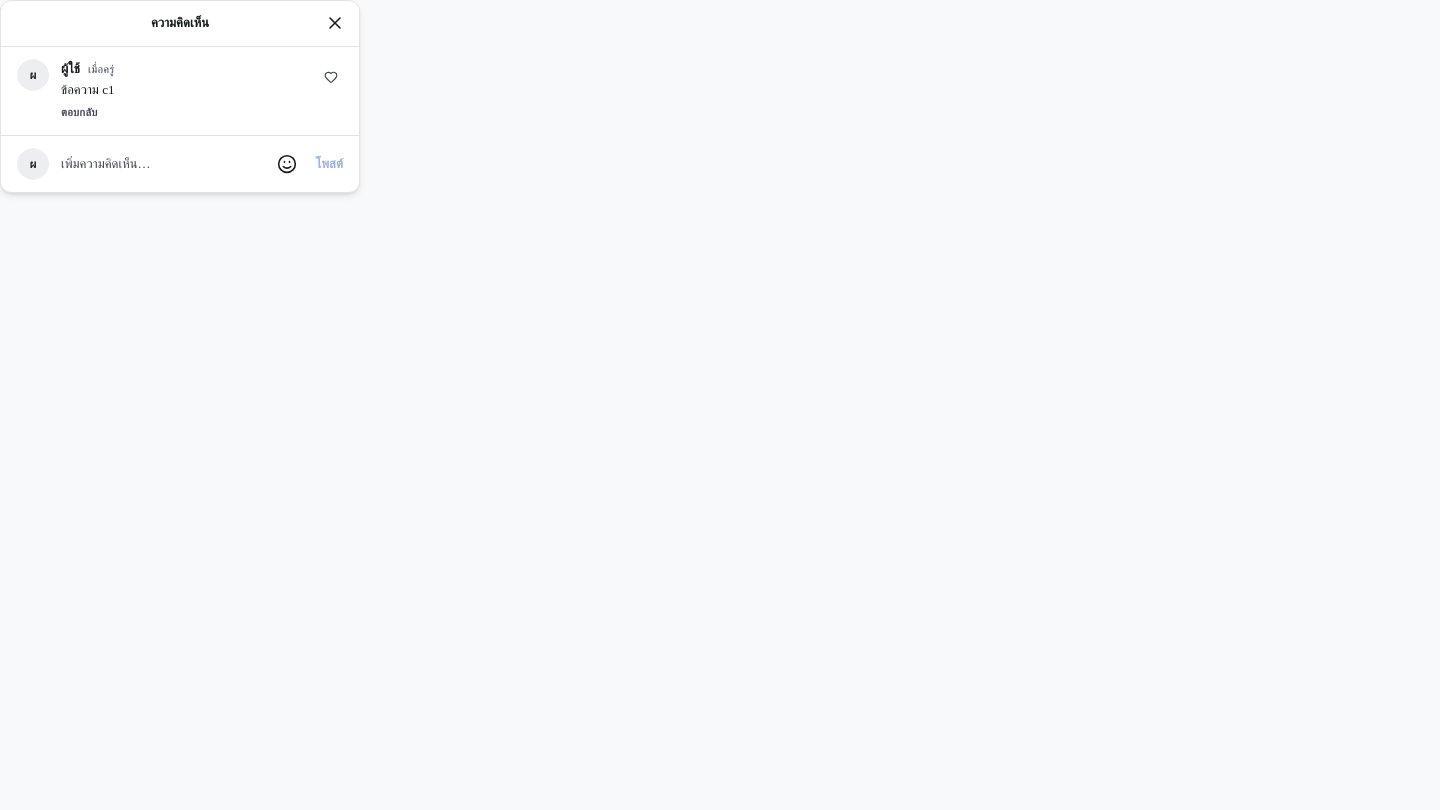
แผงความคิดเห็น › **หัวใจแดงทันทีที่กด** ก่อนหลังบ้านตอบ แล้วใช้ตัวเลขจริงจากหลังบ้าน
Step 1. Click the button named "ถูกใจความคิดเห็น" → (331, 77), box [319,65,343,89]
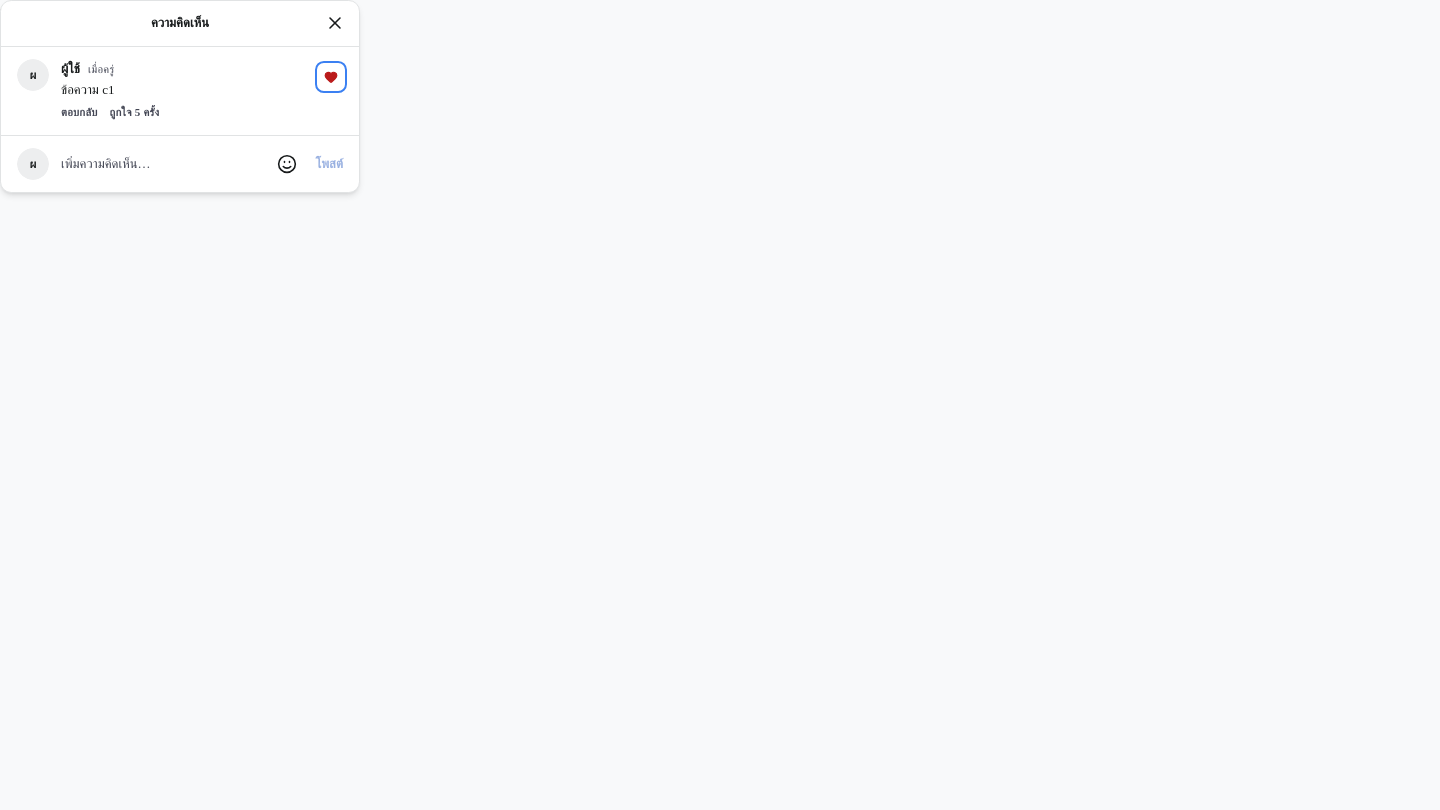
Expected: the text "ถูกใจ 5 ครั้ง" is shown, [110,104,159,122]
